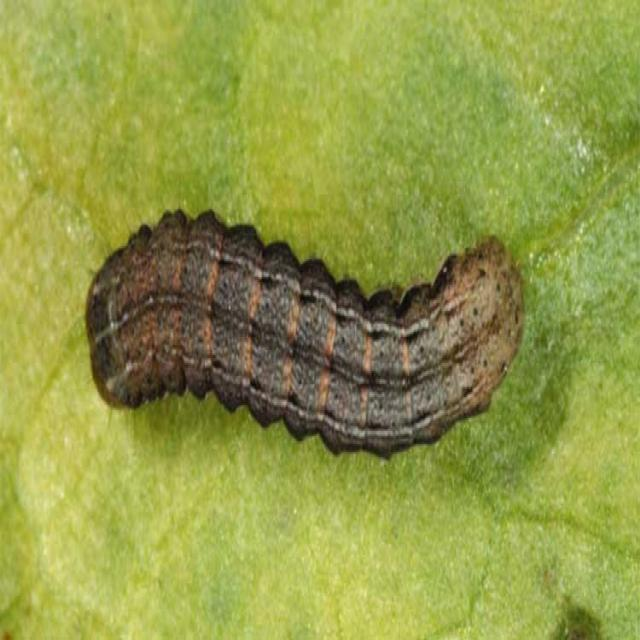Cutworm: (84, 193, 524, 479)
